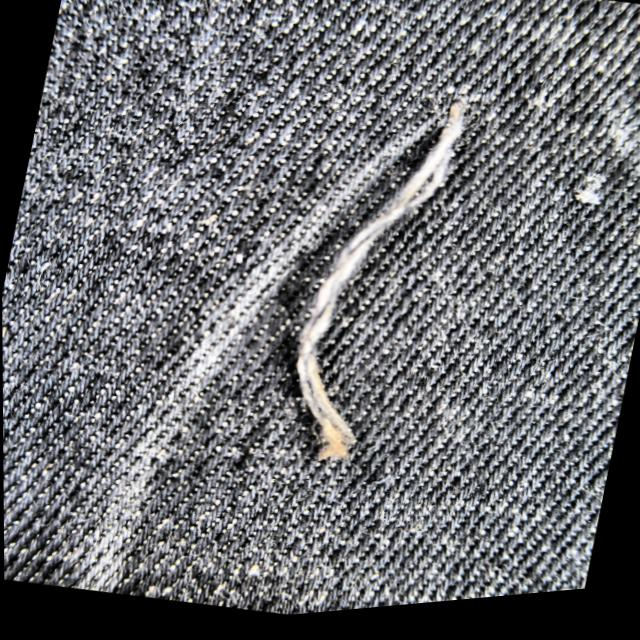Stitch: (229, 45, 496, 524)
